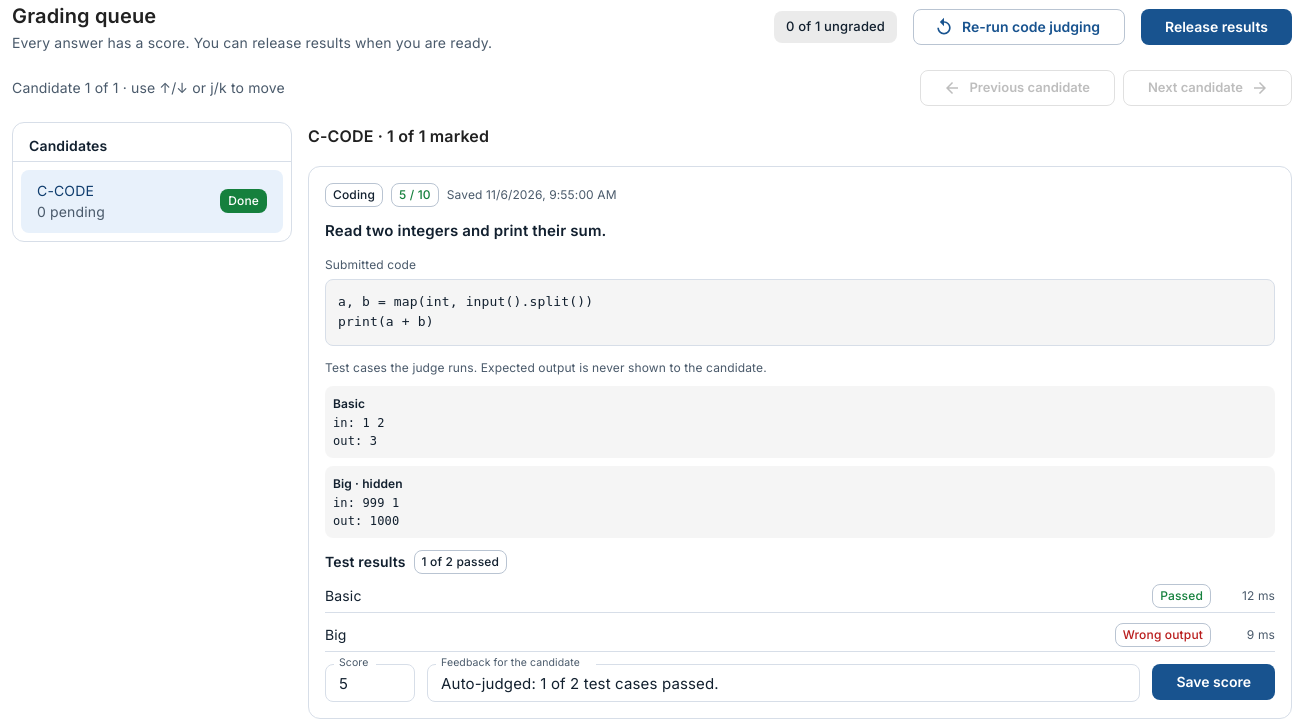
Test: GradingTab › shows coding results and re-runs the hidden tests
The image size is (1304, 720).
expect the text "Submitted code" is shown: met, box x1=325 y1=257 x2=416 y2=272
expect the text "1 of 2 passed" is shown: met, box x1=422 y1=554 x2=499 y2=569
Click the button "Re-run code judging".
click(1019, 27)  # box x1=913 y1=9 x2=1125 y2=45
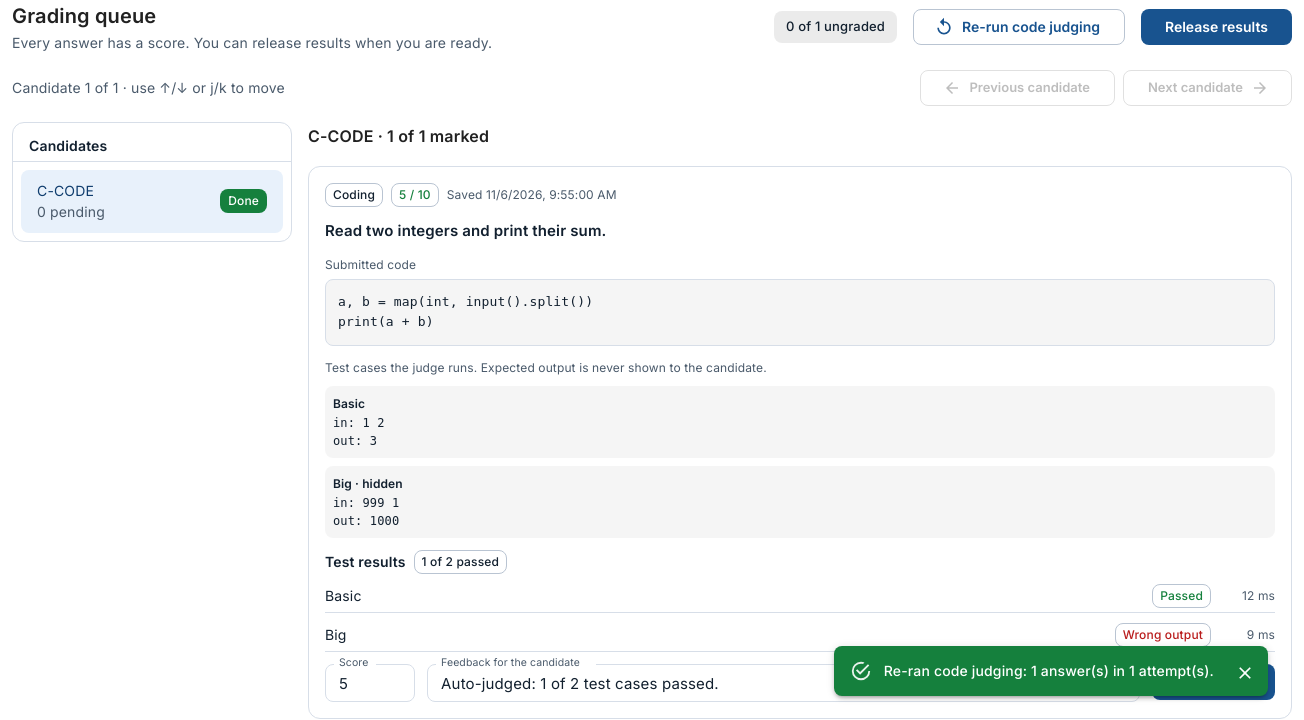
expect the text "Re-ran code judging: 1 answer(s) in 1 attempt(s)." is shown: met, box x1=884 y1=662 x2=1214 y2=679
